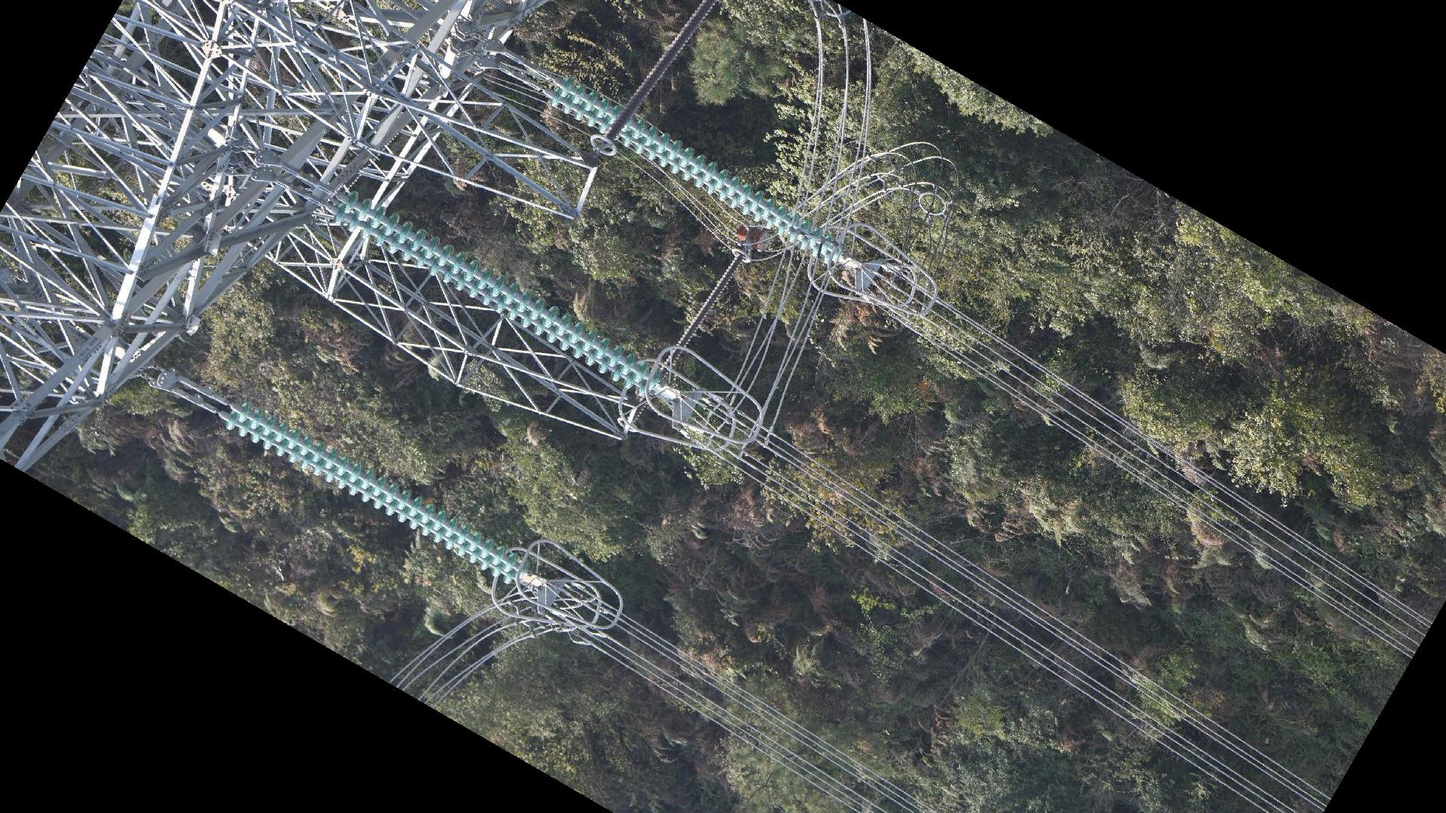insulator: (328, 186, 660, 400), (218, 397, 534, 588), (547, 75, 831, 257), (605, 1, 716, 143), (659, 251, 744, 379)
